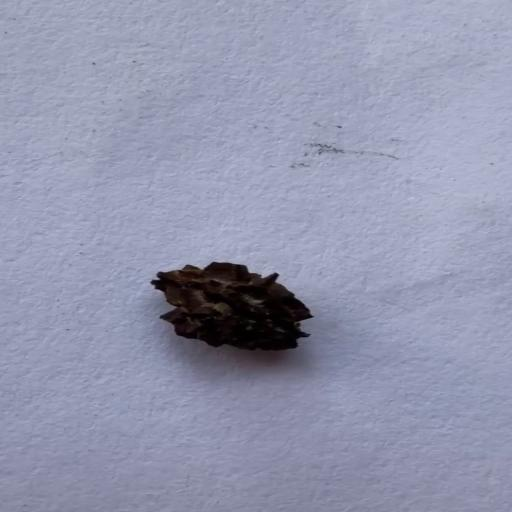papaya_seed: (150, 256, 318, 352)
